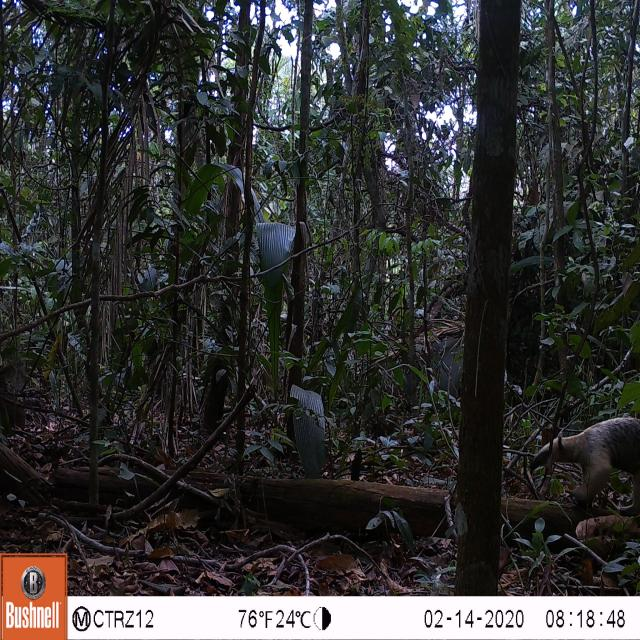Southern Tamandua: (524, 403, 640, 521)
